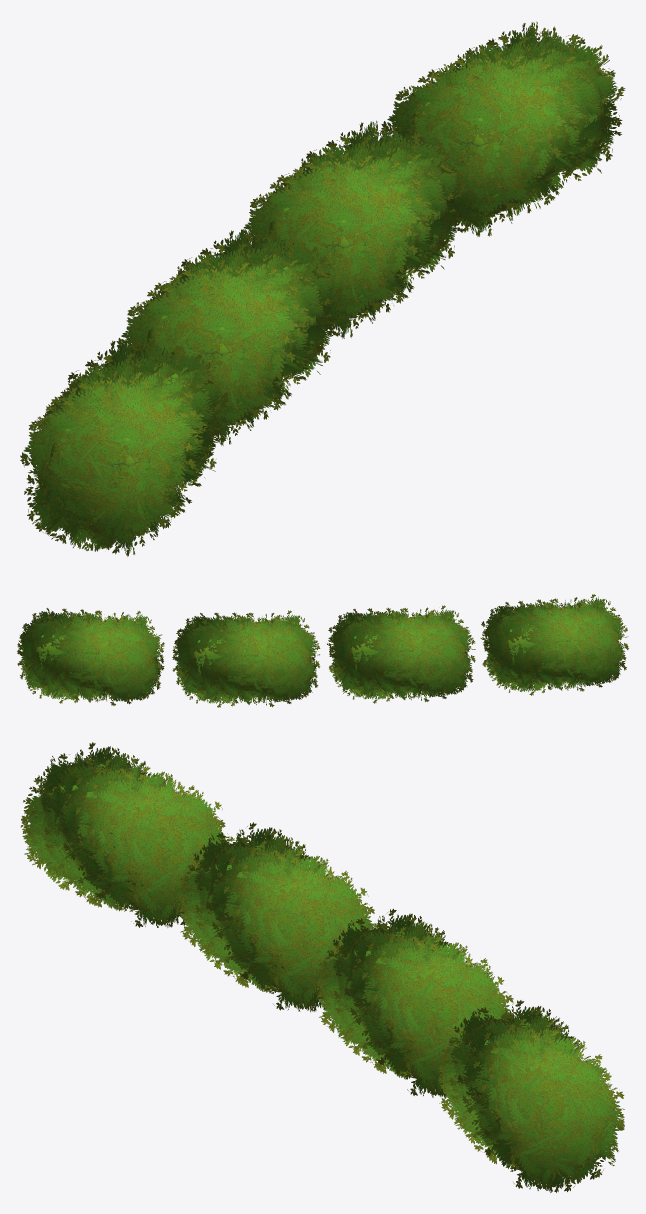
Rendered from SM_Bush06_Splines_40.fbx.
The picture shows the model from 3 angles, top to bottom: view 1: azimuth 30°, elevation 25°; view 2: azimuth 150°, elevation 25°; view 3: azimuth 270°, elevation 25°; orthographic projection. The views are drawn at different scales.
Visible parts, largest first — view 1: SM_Bush06_Splines_40_LOD0; view 2: SM_Bush06_Splines_40_LOD0; view 3: SM_Bush06_Splines_40_LOD0.
Boxes of the visible parts, <box> form: SM_Bush06_Splines_40_LOD0: <box>20,21,625,556</box>; SM_Bush06_Splines_40_LOD0: <box>17,594,628,707</box>; SM_Bush06_Splines_40_LOD0: <box>20,742,624,1192</box>.
Bounding box in the file's own units: 915 × 658 × 166.
